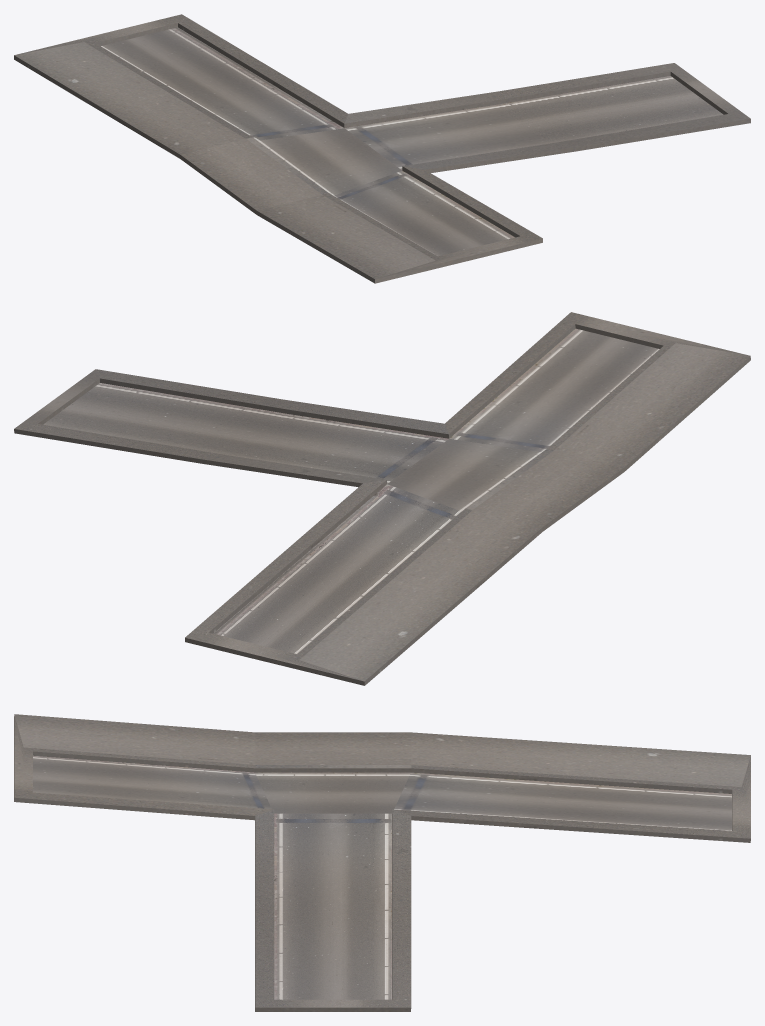
The model's file is PS1Road.fbx.
3 views of the same model, one above another, from view 1: azimuth 30°, elevation 25°; view 2: azimuth 150°, elevation 25°; view 3: azimuth 270°, elevation 25° (orthographic). The views are drawn at different scales.
Visible parts, largest first — view 1: Road; view 2: Road; view 3: Road.
Boxes of the visible parts, left/top/right/bottom form: Road: left=14, top=14, right=750, bottom=283; Road: left=14, top=312, right=750, bottom=685; Road: left=14, top=714, right=750, bottom=1011.
Size of the model in its own units: 907 by 88.98 by 1149.
